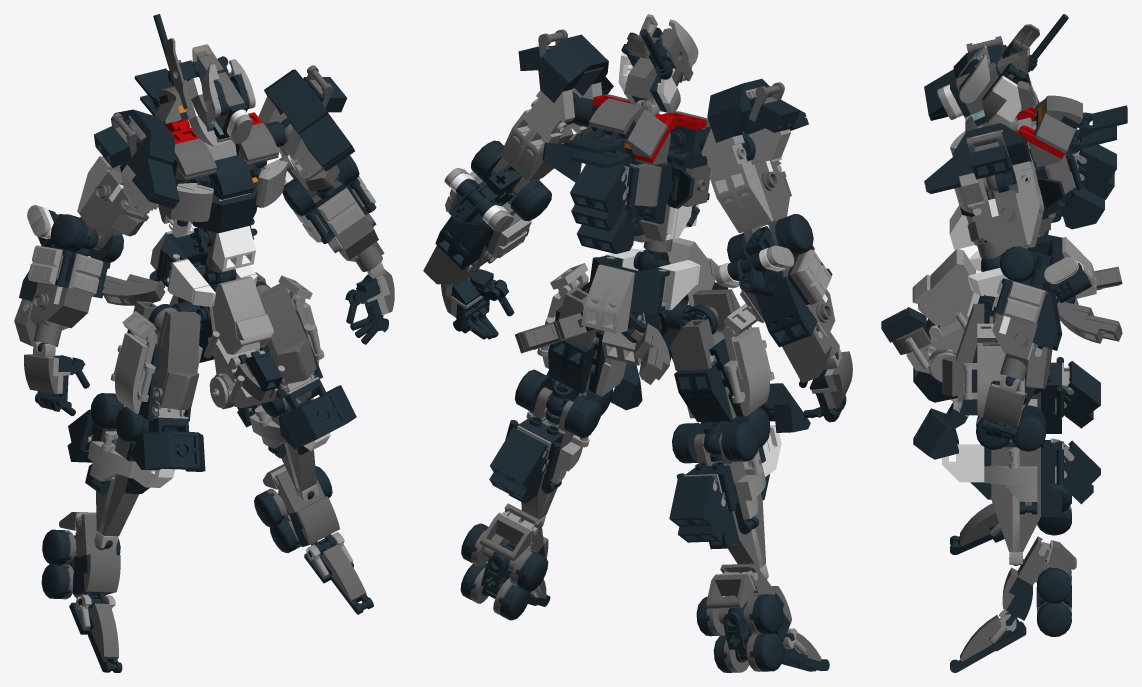
The model's file is sap-04d-hayabusa.dae.
The picture shows the model from 3 angles, left to right: view 1: azimuth 30°, elevation 25°; view 2: azimuth 150°, elevation 25°; view 3: azimuth 270°, elevation 25°; orthographic projection. The views are drawn at different scales.
Bounding box in the file's own units: 471 × 279 × 732.
